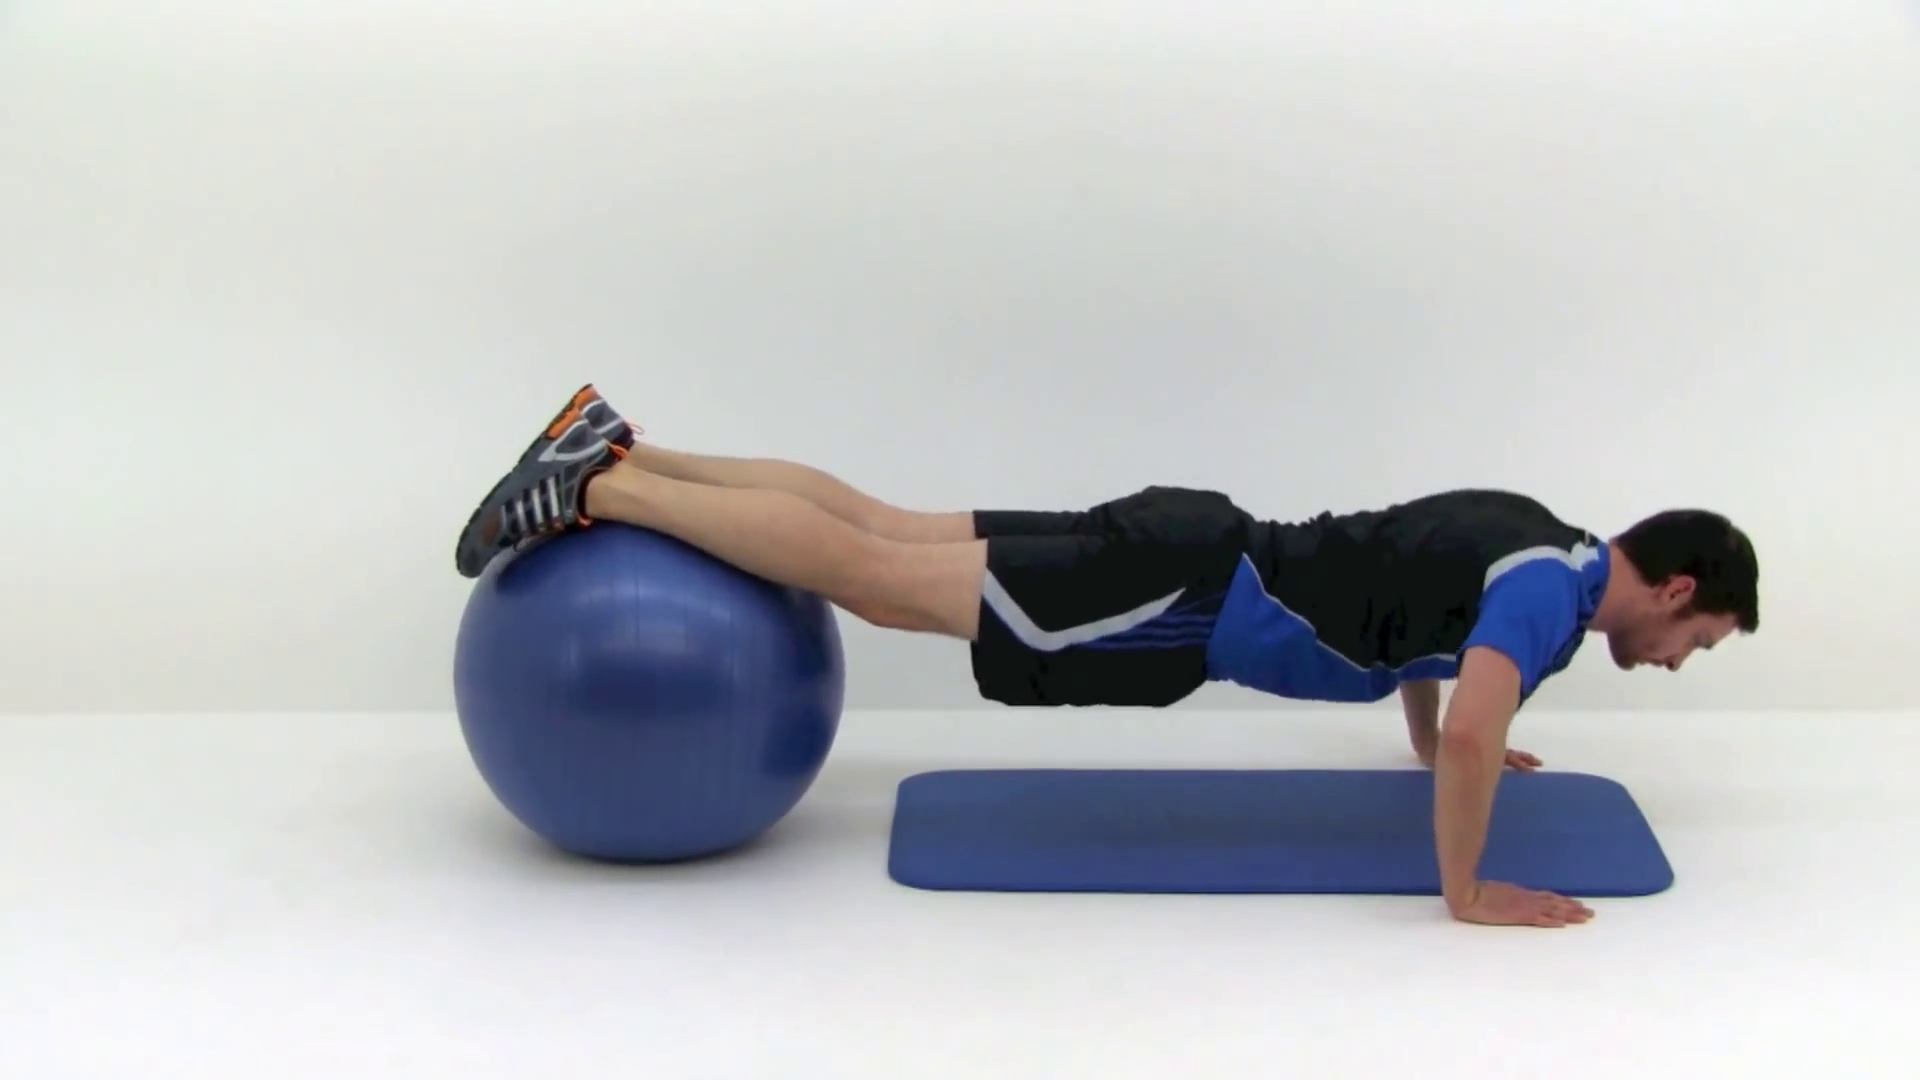yogaball: (427, 502, 870, 922)
